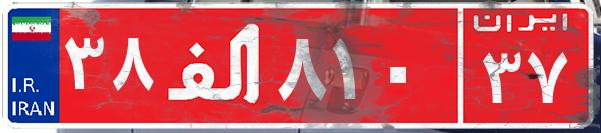0: (385, 28, 445, 110)
1: (330, 28, 385, 110)
3: (57, 26, 110, 107), (475, 38, 525, 113)
7: (525, 38, 570, 115)
8: (273, 28, 330, 110), (110, 28, 158, 105)
الف: (158, 15, 273, 115)
